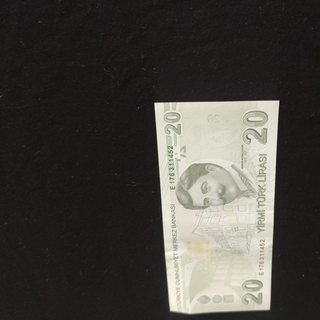20TLBack: (153, 100, 280, 315)
